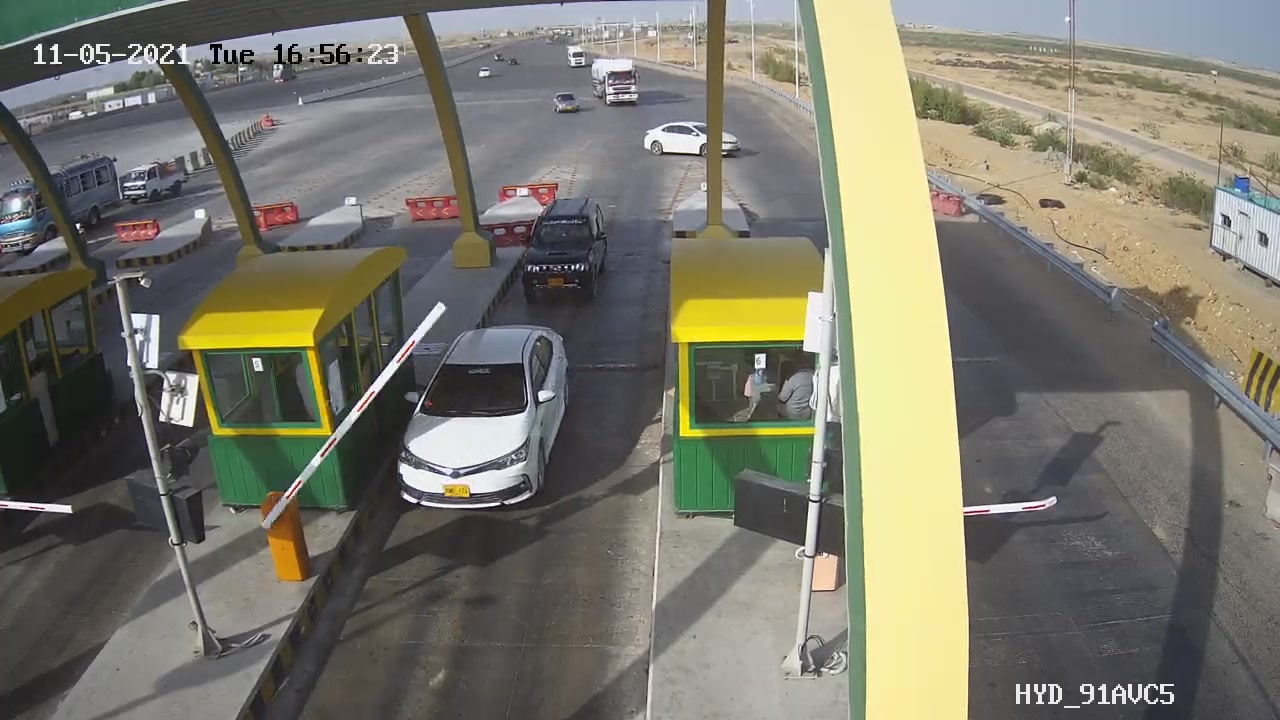F1: (381, 311, 589, 532), (509, 189, 623, 314)
